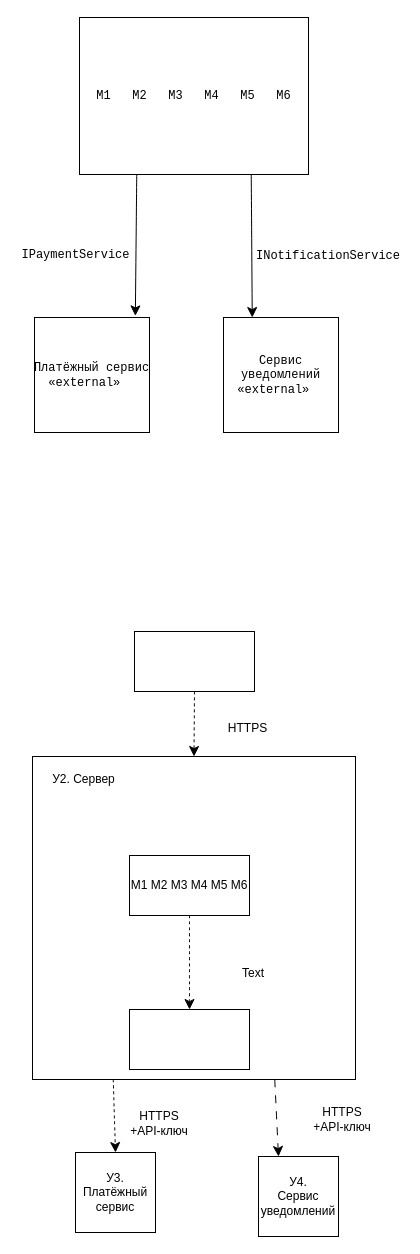
Some shapes in this 420 by 1254 pixel diagram are drawn without their labels. Each missing label, with the box of its shape:
БД: (128, 1008, 250, 1070)
У1. Браузер: (134, 630, 254, 692)
